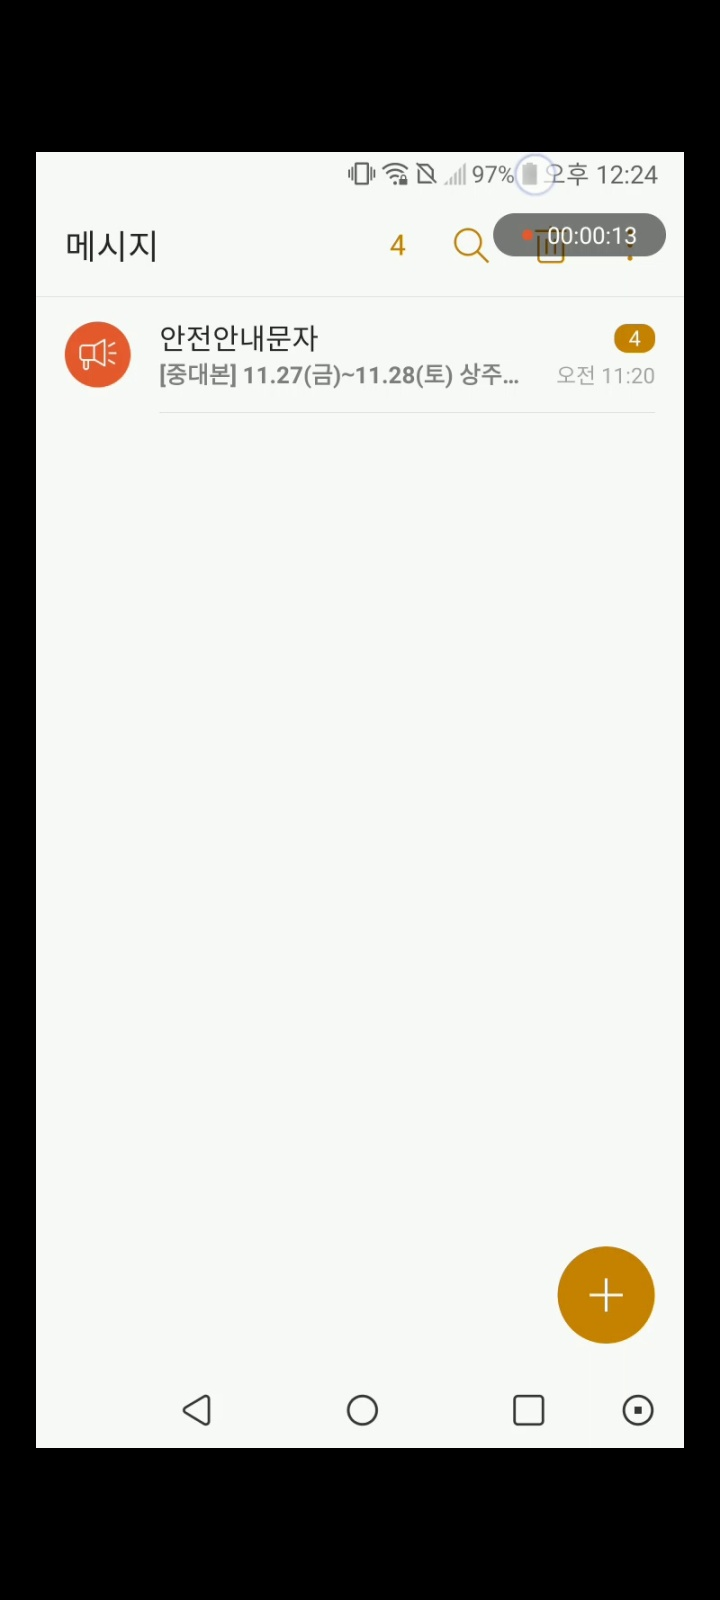Cursor: (513, 153, 558, 197)
